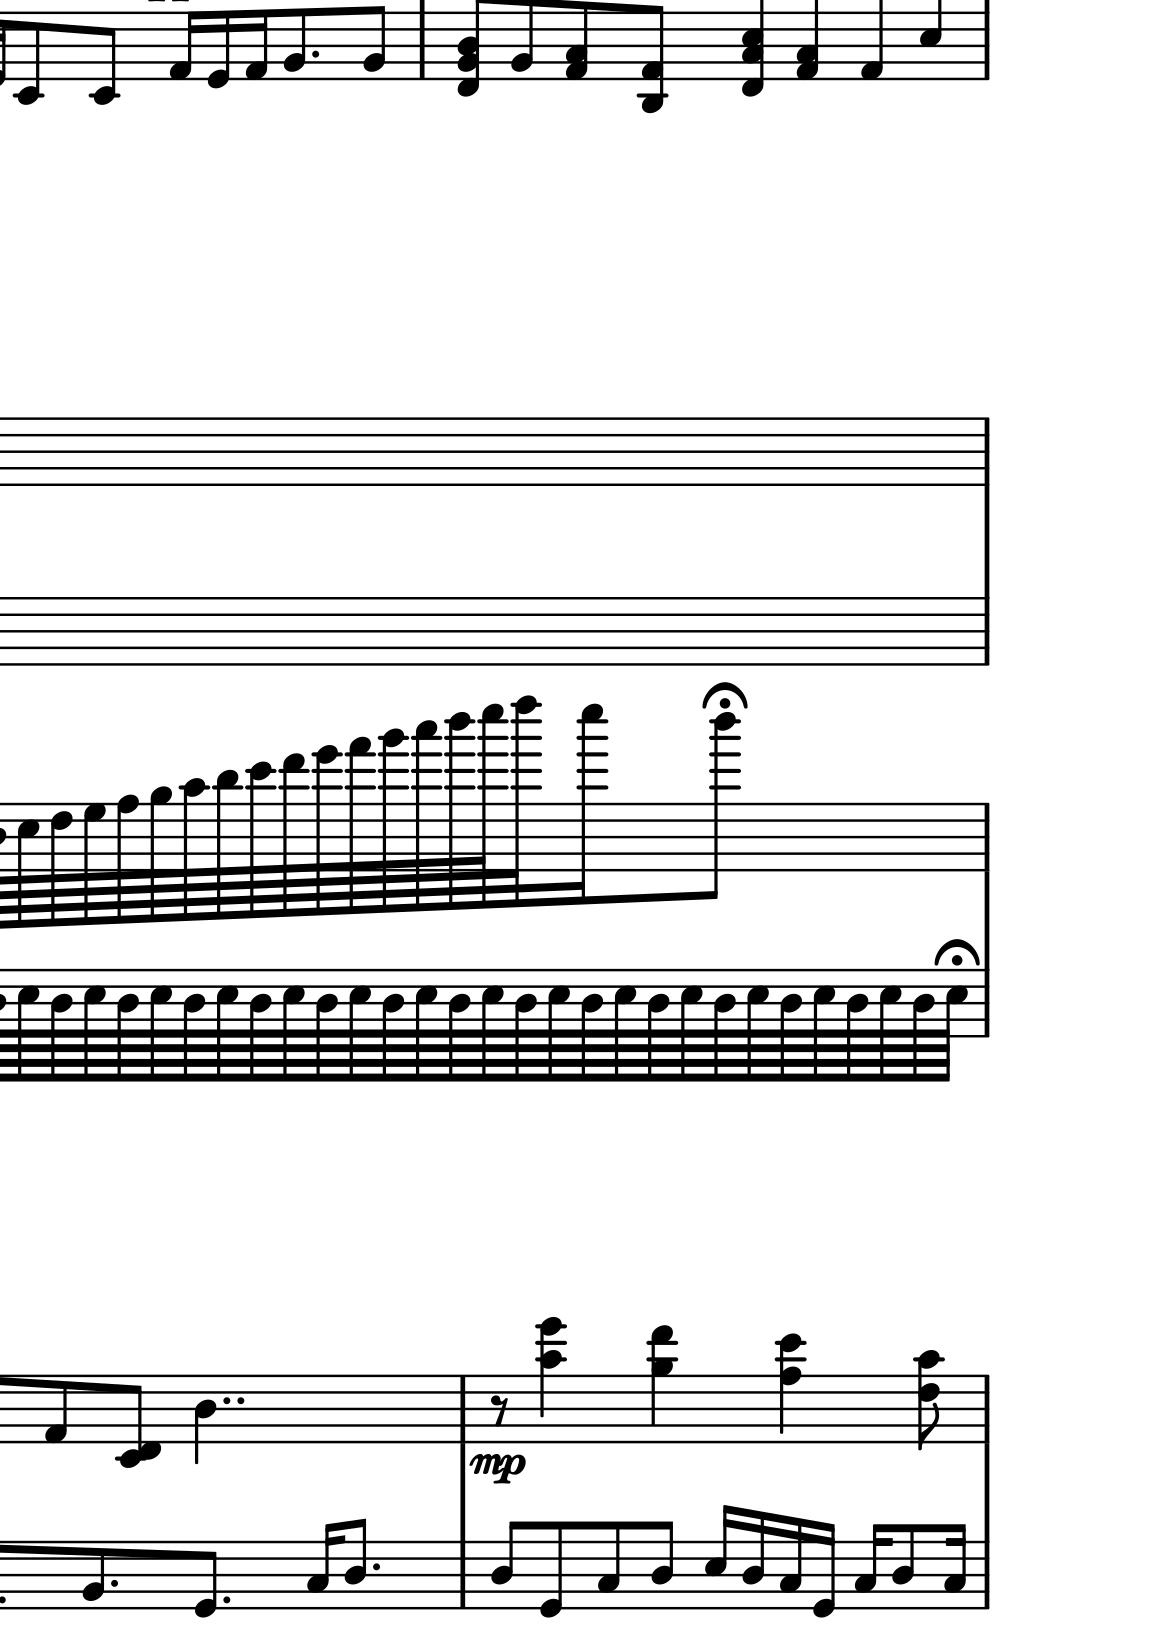16_0: (810, 1522, 837, 1621), (204, 9, 232, 91)
16_1: (167, 9, 199, 83), (243, 9, 271, 83)
16_19: (574, 702, 610, 905)
16_3: (304, 1520, 345, 1610), (852, 1522, 891, 1610), (777, 1515, 804, 1611), (943, 1522, 969, 1611)
16_4: (741, 1508, 767, 1613)
16_5: (704, 1504, 737, 1611)
32_20: (509, 695, 546, 910)
4_-3_1: (637, 4, 667, 115)
4_10_14: (535, 1316, 569, 1446)
4_4: (191, 1375, 217, 1467)
4_8_12: (775, 1331, 805, 1444)
4_9_13: (647, 1323, 676, 1446)
64_10: (178, 778, 209, 922)
64_11: (211, 768, 244, 923)
64_12: (246, 761, 278, 920)
64_13: (278, 751, 310, 918)
64_14: (310, 743, 344, 918)
64_15: (345, 735, 377, 916)
64_16: (377, 727, 409, 913)
64_17: (409, 718, 443, 913)
64_18: (443, 712, 476, 911)
64_19: (476, 703, 509, 908)
64_4: (47, 970, 74, 1083), (578, 970, 605, 1083), (380, 968, 405, 1084), (512, 968, 537, 1084), (181, 970, 206, 1083), (314, 970, 339, 1083), (448, 970, 473, 1083), (712, 970, 737, 1083), (845, 970, 870, 1083), (115, 968, 138, 1084), (248, 968, 272, 1084), (646, 968, 670, 1084), (778, 968, 802, 1084), (911, 970, 935, 1085)
64_5: (938, 967, 969, 1084), (17, 803, 42, 930), (479, 967, 505, 1083), (678, 968, 704, 1083), (810, 968, 837, 1083), (15, 967, 40, 1084), (82, 967, 107, 1084), (281, 967, 305, 1084), (547, 968, 572, 1085), (611, 965, 636, 1082), (148, 967, 173, 1083), (214, 967, 239, 1083), (348, 970, 373, 1085), (413, 968, 438, 1083), (746, 968, 770, 1083), (878, 968, 903, 1083)
64_6: (49, 803, 74, 927)
64_7: (82, 803, 107, 925)
64_8: (115, 794, 137, 925)
64_9: (150, 785, 173, 923)
8_-2: (12, 10, 45, 108), (87, 9, 118, 105)
8_-2_-1: (113, 1373, 162, 1469)
8_0: (539, 1520, 565, 1621), (192, 1539, 219, 1620)
8_1: (42, 1373, 69, 1446)
8_18: (696, 712, 741, 901)
8_2: (362, 2, 386, 83), (282, 6, 307, 82), (81, 1539, 106, 1613)
8_3: (595, 1520, 622, 1613)
8_4: (489, 1518, 522, 1611), (650, 1519, 674, 1613), (891, 1523, 916, 1609), (345, 1518, 367, 1611)
8_6_10: (913, 1348, 944, 1456)
8_th: (453, 1, 492, 98)
Double_dot: (219, 1394, 247, 1407)
Fermata_above: (698, 678, 751, 713), (931, 936, 981, 970)
Rests8: (487, 1393, 510, 1427)
Single_barline: (974, 598, 996, 665), (411, 11, 433, 80), (975, 804, 996, 871), (976, 417, 996, 485), (453, 1376, 473, 1443), (453, 1542, 473, 1609), (976, 11, 995, 81), (976, 1375, 995, 1444), (976, 1542, 995, 1610), (977, 971, 996, 1038)
dot: (106, 1575, 122, 1593), (219, 1593, 233, 1609), (370, 1559, 383, 1574), (308, 49, 320, 61)
mp: (468, 1451, 526, 1487)
